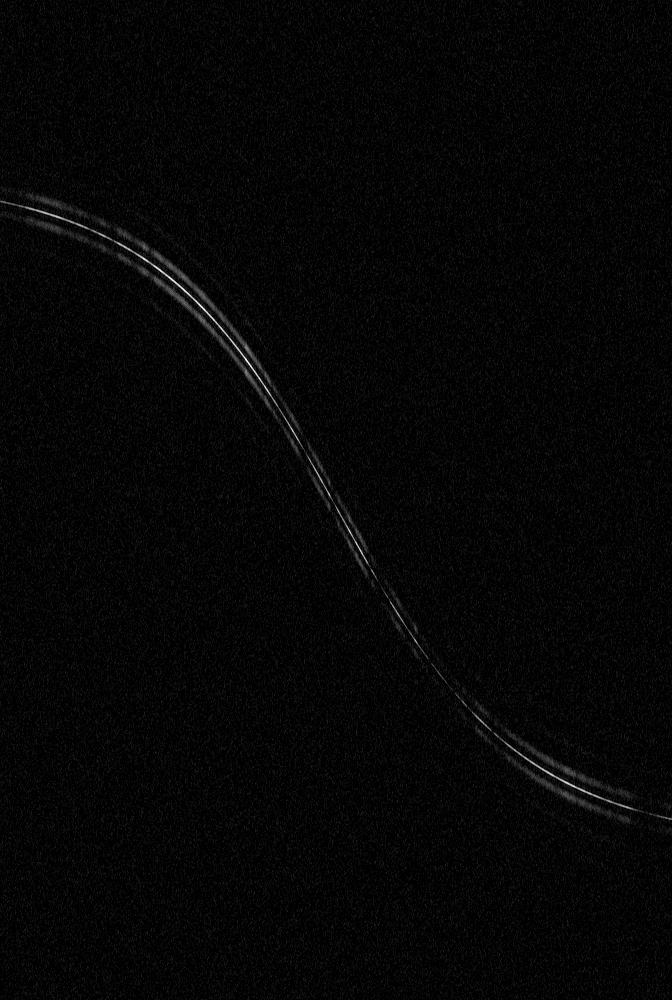signal: (0, 0, 671, 999)
